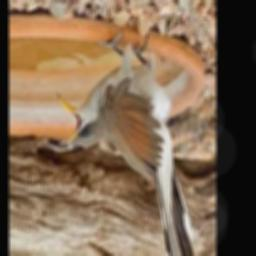Cuckoo: (57, 34, 199, 256)
